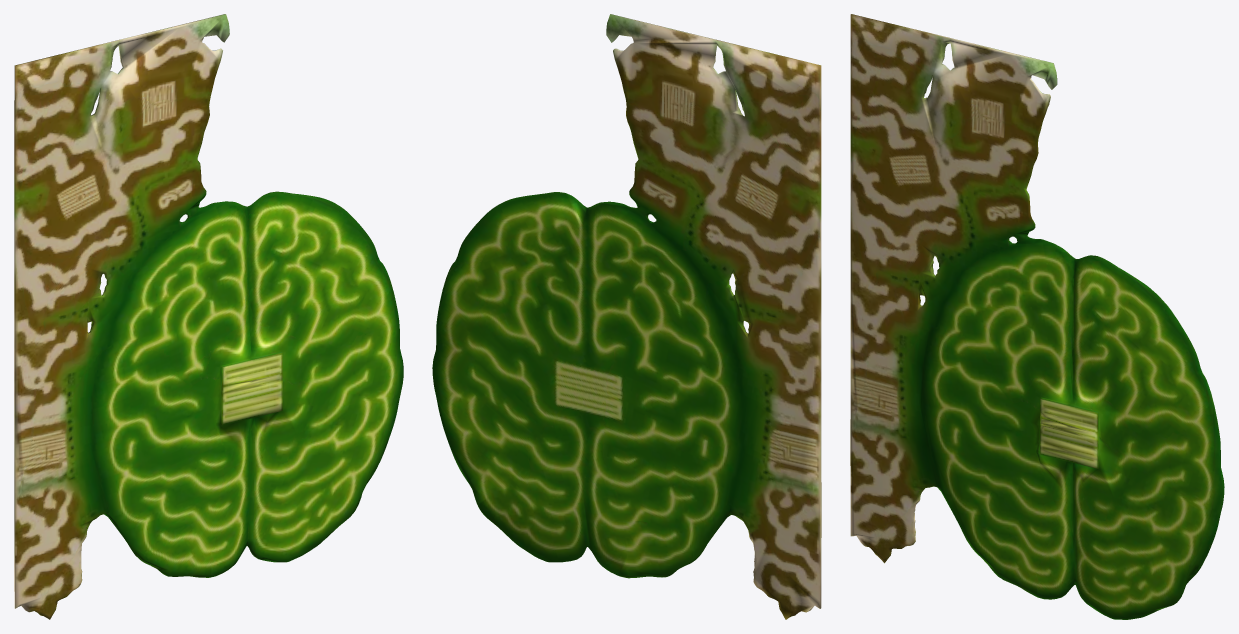
The picture shows the model from 3 angles, left to right: view 1: azimuth 30°, elevation 25°; view 2: azimuth 150°, elevation 25°; view 3: azimuth 330°, elevation 25°; orthographic projection. The views are drawn at different scales.
Parts seen in each view (by area): view 1: node_0; view 2: node_0; view 3: node_0.
Part boxes in pixels (left/top/right/bottom): node_0: left=14, top=14, right=403, bottom=619; node_0: left=432, top=14, right=821, bottom=619; node_0: left=850, top=14, right=1224, bottom=619.
Bounding box in the file's own units: 0.7037 × 0.9736 × 0.0201.
Materials: 1 (1 with a texture image).
